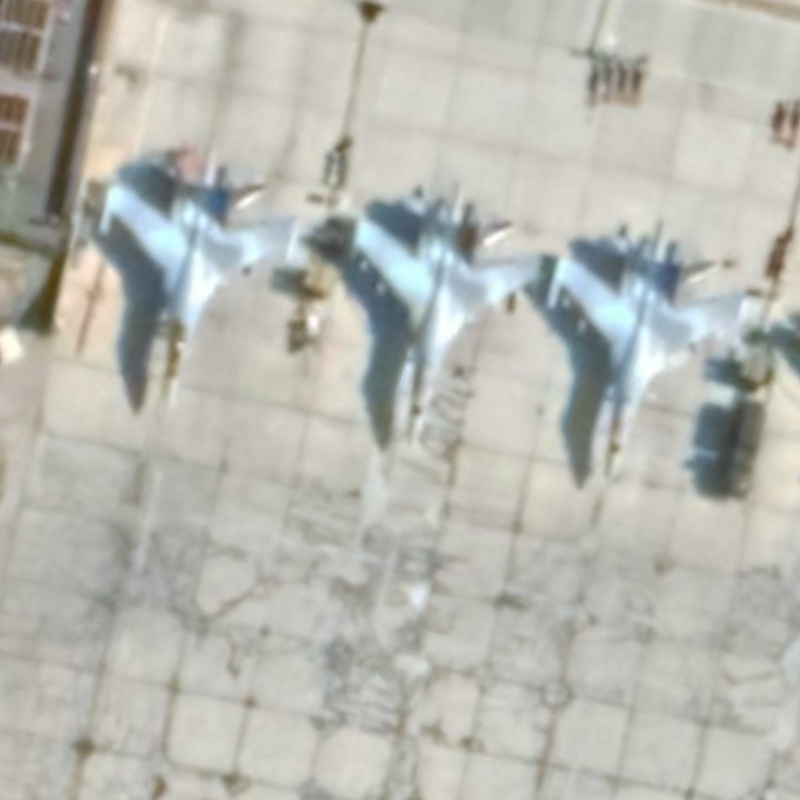A1: (91, 144, 306, 416), (342, 178, 548, 454), (541, 216, 751, 486)
